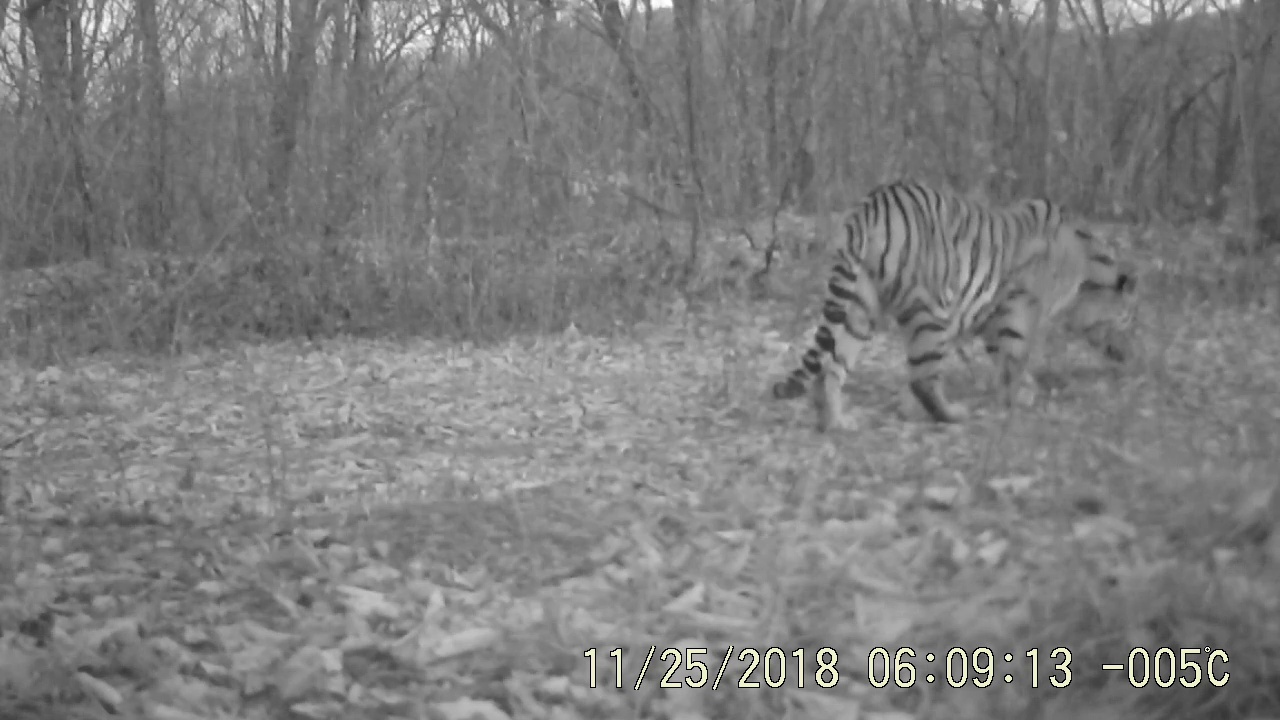Tiger: (747, 149, 1201, 484)
